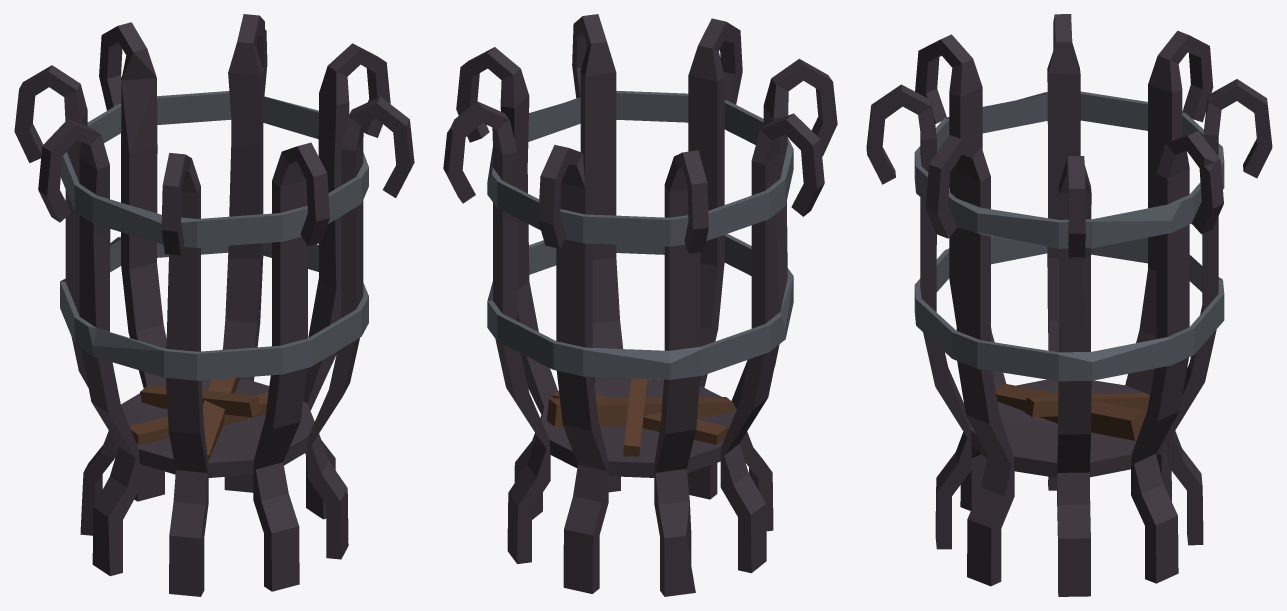
File: FirePlace_2.fbx
3 views of the same model, side by side, from view 1: azimuth 30°, elevation 25°; view 2: azimuth 150°, elevation 25°; view 3: azimuth 270°, elevation 25° (orthographic).
Parts seen in each view (by area): view 1: FirePlace_2; view 2: FirePlace_2; view 3: FirePlace_2.
Boxes of the visible parts, <box> form: FirePlace_2: <box>14,14,414,596</box>; FirePlace_2: <box>443,14,837,596</box>; FirePlace_2: <box>866,14,1272,596</box>.
Bounding box in the file's own units: 0.6601 × 0.8167 × 0.6601.
